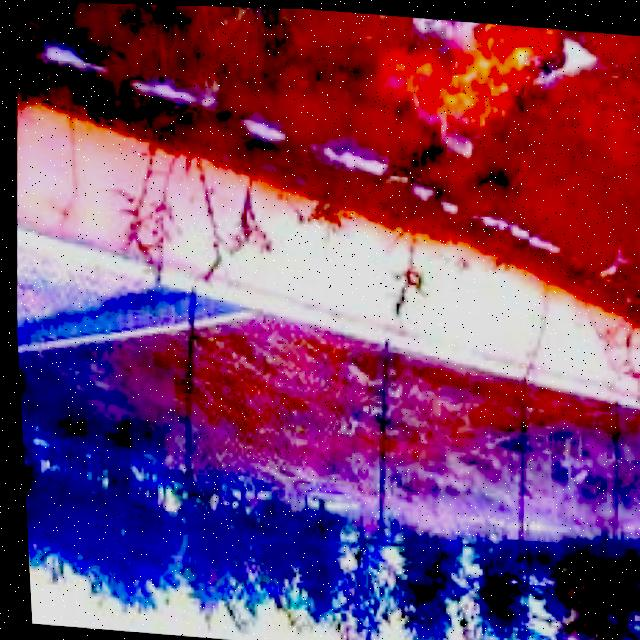Fire: (372, 11, 578, 162)
